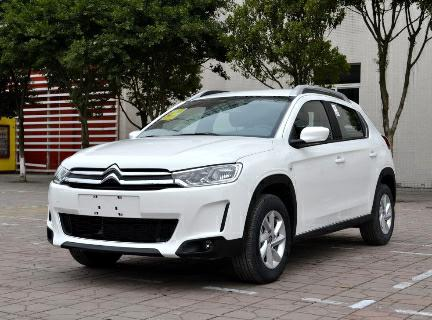雪铁龙-C3-XR: (36, 82, 408, 291)
